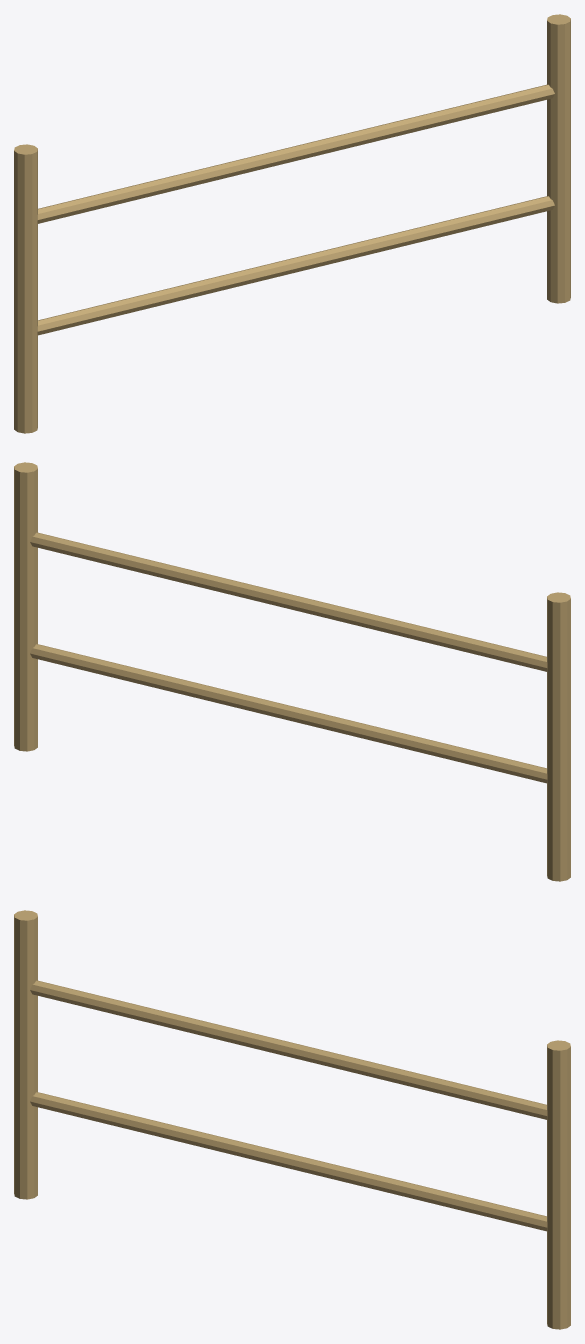
Rendered from Prop_BambooFence_Module.fbx.
The picture shows the model from 3 angles, top to bottom: view 1: azimuth 30°, elevation 25°; view 2: azimuth 150°, elevation 25°; view 3: azimuth 330°, elevation 25°; orthographic projection.
Visible parts, largest first — view 1: Prop_BambooFence_Module; view 2: Prop_BambooFence_Module; view 3: Prop_BambooFence_Module.
Boxes of the visible parts, x1,y1,x2,y2 form: Prop_BambooFence_Module: (14,14,570,433); Prop_BambooFence_Module: (14,462,570,881); Prop_BambooFence_Module: (14,910,570,1329).
Bounding box in the file's own units: 2.08 × 1 × 0.08.
